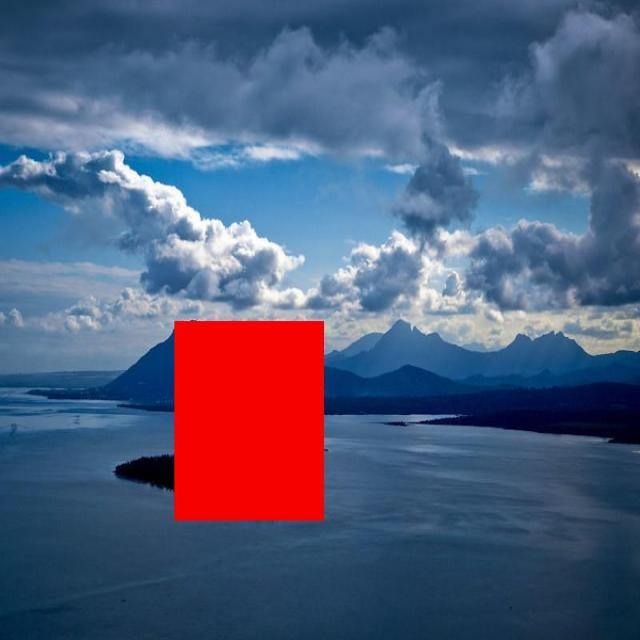RedSquare: (171, 314, 334, 528)
